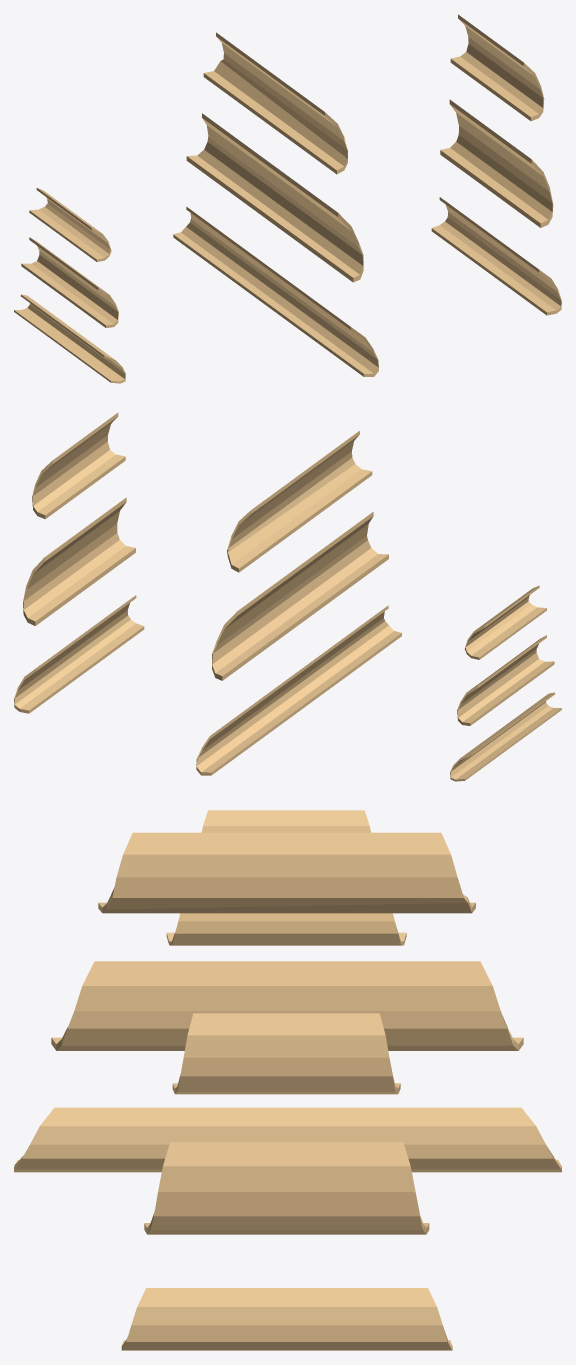
The model's file is SailsHalf.fbx.
The picture shows the model from 3 angles, top to bottom: view 1: azimuth 30°, elevation 25°; view 2: azimuth 150°, elevation 25°; view 3: azimuth 270°, elevation 25°; orthographic projection. The views are drawn at different scales.
Parts seen in each view (by area): view 1: Sail Half Mid 2, Sail Half Mid 3, Sail Half Mid 1, Sail Half Front 2, Sail Half Front 3, Sail Half Front 1, Sail Half Back 2, Sail Half Back 3, Sail Half Back 1; view 2: Sail Half Mid 2, Sail Half Mid 3, Sail Half Mid 1, Sail Half Front 2, Sail Half Front 3, Sail Half Front 1, Sail Half Back 2, Sail Half Back 3, Sail Half Back 1; view 3: Sail Half Mid 2, Sail Half Mid 1, Sail Half Mid 3, Sail Half Front 2, Sail Half Front 3, Sail Half Front 1, Sail Half Back 2, Sail Half Back 1.
Part boxes in pixels (x1=…): Sail Half Mid 2: x1=186, y1=113, x2=363, y2=282; Sail Half Mid 3: x1=173, y1=206, x2=378, y2=376; Sail Half Mid 1: x1=203, y1=32, x2=347, y2=174; Sail Half Front 2: x1=440, y1=99, x2=553, y2=227; Sail Half Front 3: x1=431, y1=197, x2=561, y2=315; Sail Half Front 1: x1=450, y1=14, x2=544, y2=121; Sail Half Back 2: x1=21, y1=237, x2=118, y2=327; Sail Half Back 3: x1=14, y1=294, x2=125, y2=383; Sail Half Back 1: x1=29, y1=188, x2=111, y2=261; Sail Half Mid 2: x1=212, y1=512, x2=388, y2=680; Sail Half Mid 3: x1=196, y1=605, x2=401, y2=775; Sail Half Mid 1: x1=227, y1=431, x2=372, y2=572; Sail Half Front 2: x1=23, y1=497, x2=135, y2=625; Sail Half Front 3: x1=14, y1=595, x2=144, y2=713; Sail Half Front 1: x1=32, y1=412, x2=125, y2=519; Sail Half Back 2: x1=457, y1=635, x2=554, y2=725; Sail Half Back 3: x1=450, y1=692, x2=561, y2=781; Sail Half Back 1: x1=464, y1=585, x2=546, y2=659; Sail Half Mid 2: x1=51, y1=961, x2=523, y2=1050; Sail Half Mid 1: x1=98, y1=832, x2=475, y2=913; Sail Half Mid 3: x1=14, y1=1107, x2=561, y2=1172; Sail Half Front 2: x1=144, y1=1142, x2=429, y2=1234; Sail Half Front 3: x1=121, y1=1288, x2=452, y2=1350; Sail Half Front 1: x1=172, y1=1013, x2=400, y2=1094; Sail Half Back 2: x1=166, y1=913, x2=406, y2=945; Sail Half Back 1: x1=201, y1=810, x2=370, y2=832.
Bounding box in the file's own units: 8166 × 10835 × 5935.
